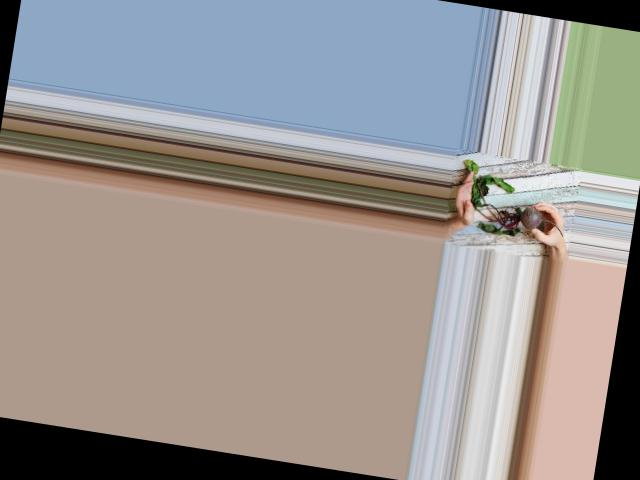beet: (454, 158, 573, 243)
